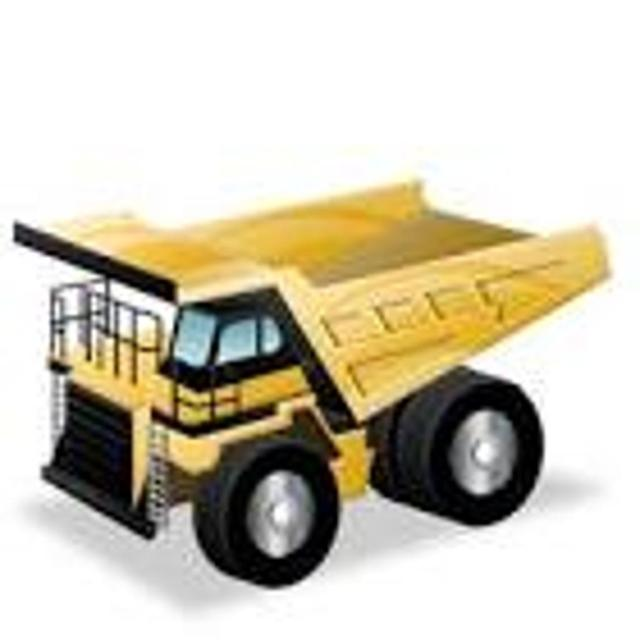dump_truck: (12, 122, 608, 588)
